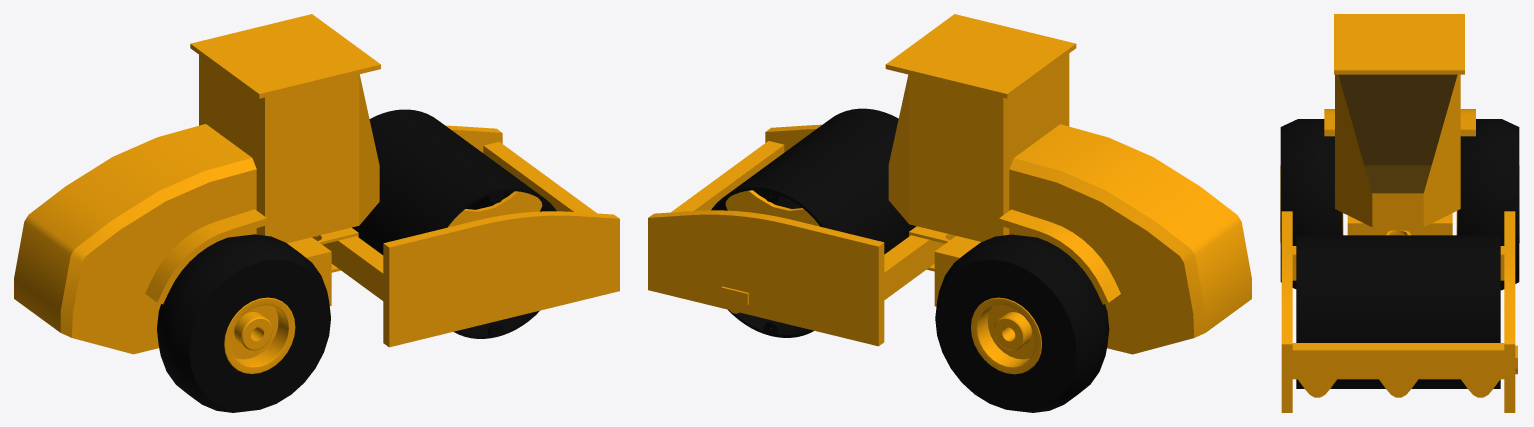
File: 平面鋼輪滾壓機.FBX
3 views of the same model, side by side, from view 1: azimuth 30°, elevation 25°; view 2: azimuth 150°, elevation 25°; view 3: azimuth 270°, elevation 25° (orthographic). The views are drawn at different scales.
Visible parts, largest first — view 1: 平面鋼輪滾壓機, 滾壓機車輪, 滾壓筒; view 2: 平面鋼輪滾壓機, 滾壓機車輪, 滾壓筒; view 3: 平面鋼輪滾壓機, 滾壓筒, 滾壓機車輪.
Boxes of the visible parts, <box> form: 平面鋼輪滾壓機: <box>14,14,619,354</box>; 滾壓機車輪: <box>157,234,330,412</box>; 滾壓筒: <box>352,109,556,338</box>; 平面鋼輪滾壓機: <box>648,14,1251,354</box>; 滾壓機車輪: <box>935,234,1109,412</box>; 滾壓筒: <box>711,108,916,337</box>; 平面鋼輪滾壓機: <box>1281,14,1517,412</box>; 滾壓筒: <box>1296,235,1500,388</box>; 滾壓機車輪: <box>1280,119,1519,290</box>.
Size of the model in its own units: 231 by 125 by 96.92.
